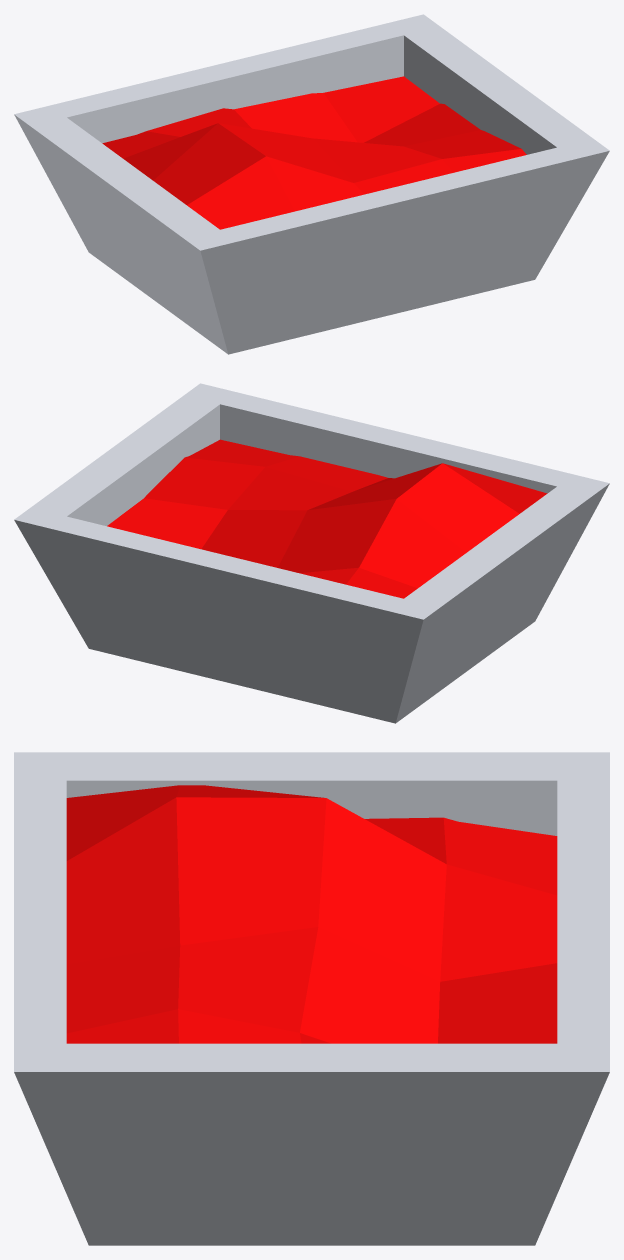
Rendered from sauce ketchup.fbx.
The picture shows the model from 3 angles, top to bottom: view 1: azimuth 30°, elevation 25°; view 2: azimuth 150°, elevation 25°; view 3: azimuth 270°, elevation 25°; orthographic projection. The views are drawn at different scales.
Visible parts, largest first — view 1: Cube; view 2: Cube; view 3: Cube.
Boxes of the visible parts, x1,y1,x2,y2 form: Cube: (14,14,609,354); Cube: (14,383,609,723); Cube: (14,752,609,1245).
Size of the model in its own units: 0.1104 by 0.0418 by 0.087.
2 materials, 2 textured.
